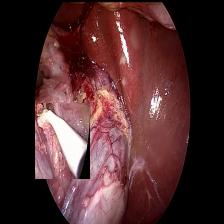Hook: (34, 102, 89, 178)
